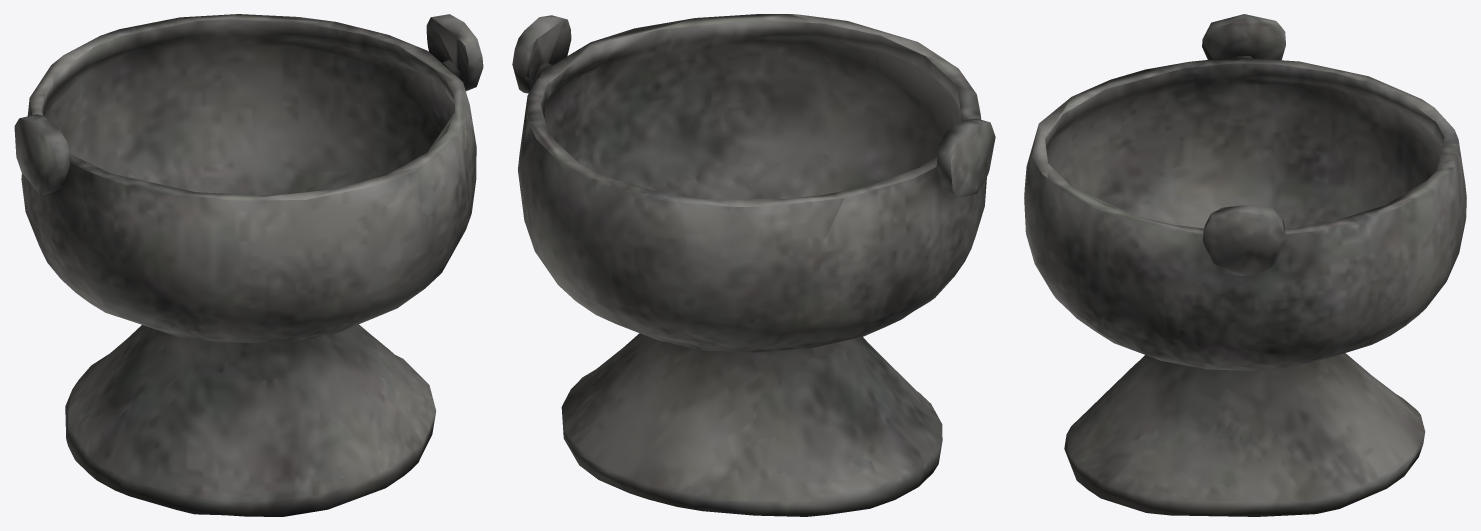
The model's file is plain-granite-brazier-v001.glb.
The picture shows the model from 3 angles, left to right: view 1: azimuth 30°, elevation 25°; view 2: azimuth 150°, elevation 25°; view 3: azimuth 270°, elevation 25°; orthographic projection. The views are drawn at different scales.
Parts seen in each view (by area): view 1: plain-granite-brazier; view 2: plain-granite-brazier; view 3: plain-granite-brazier.
Boxes of the visible parts, box(x1,y1,x2,y2) form: plain-granite-brazier: box(14, 14, 483, 516); plain-granite-brazier: box(512, 14, 995, 516); plain-granite-brazier: box(1024, 14, 1466, 516).
Bounding box in the file's own units: 1.15 × 0.9586 × 1.09.
Materials: 1 (1 with a texture image).
